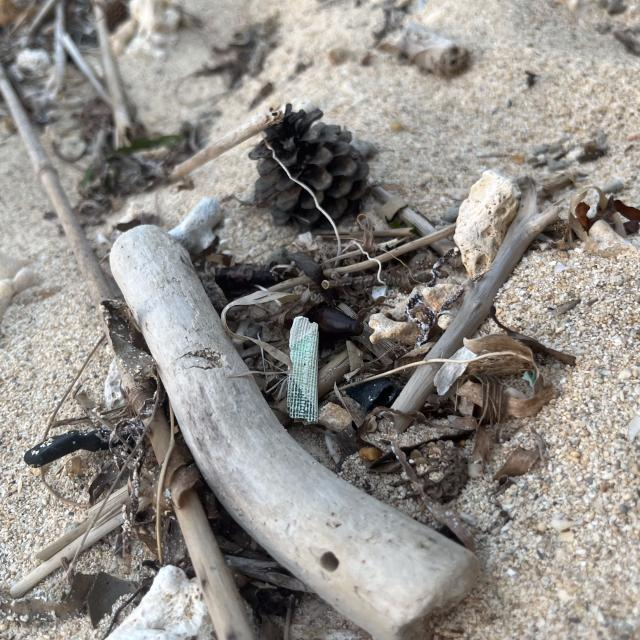pinecone: (246, 100, 378, 228)
rock: (452, 159, 519, 279)
stick: (0, 72, 263, 640), (97, 222, 446, 640)
trash: (283, 313, 329, 430)
